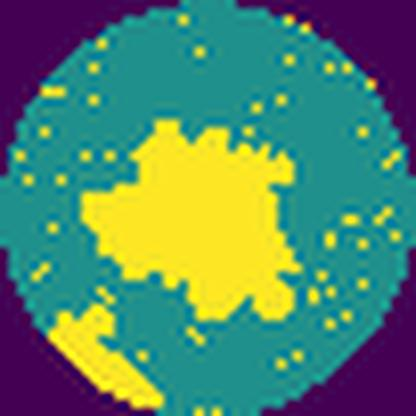Center: (82, 123, 302, 332)
